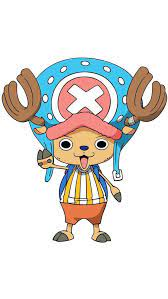chopper: (1, 58, 167, 244)
